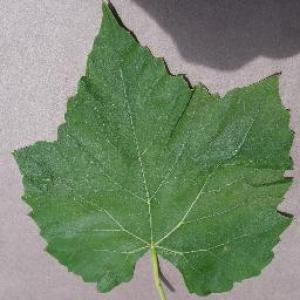Folha: (12, 0, 295, 296)
